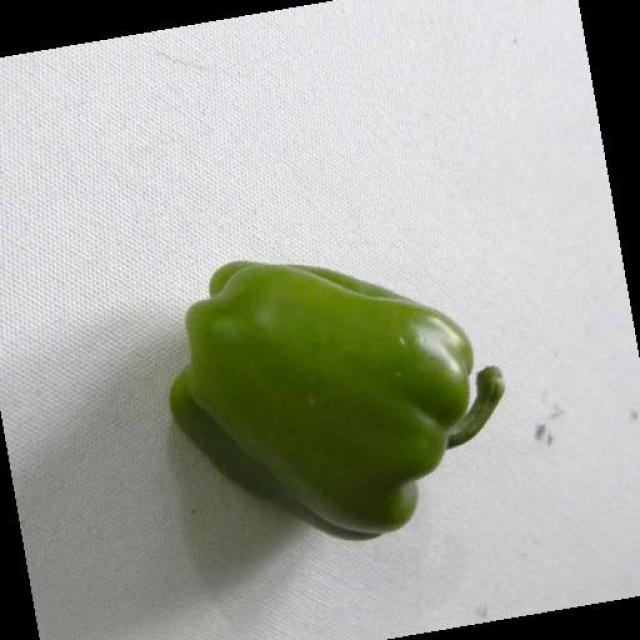Fresh_Capsicum: (158, 213, 532, 532)
